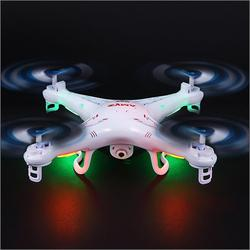drone: (1, 55, 250, 186)
